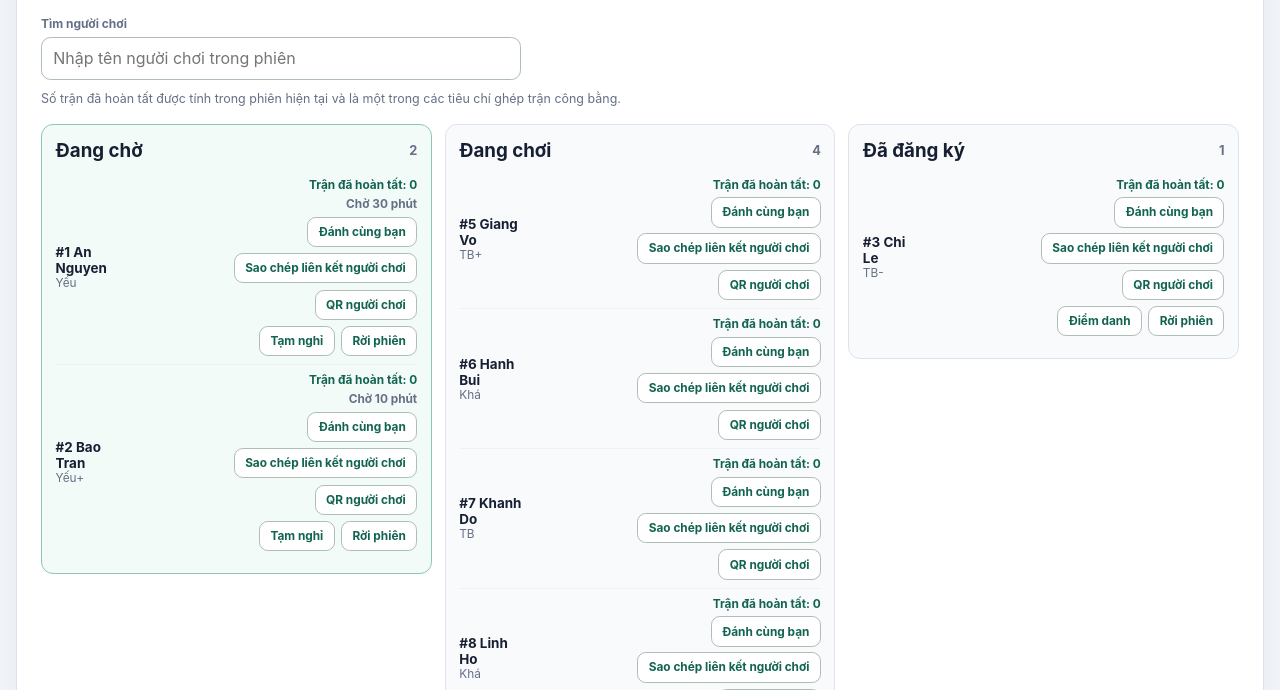
Test: Participant live actions › does not retry an unknown-outcome POST and reconciles Participants
The image size is (1280, 690).
(page scrolled)
Click the button "Rời phiên" below "Chờ 30 phút" at (379, 341), box top-left (341, 326), bottom-right (417, 356)
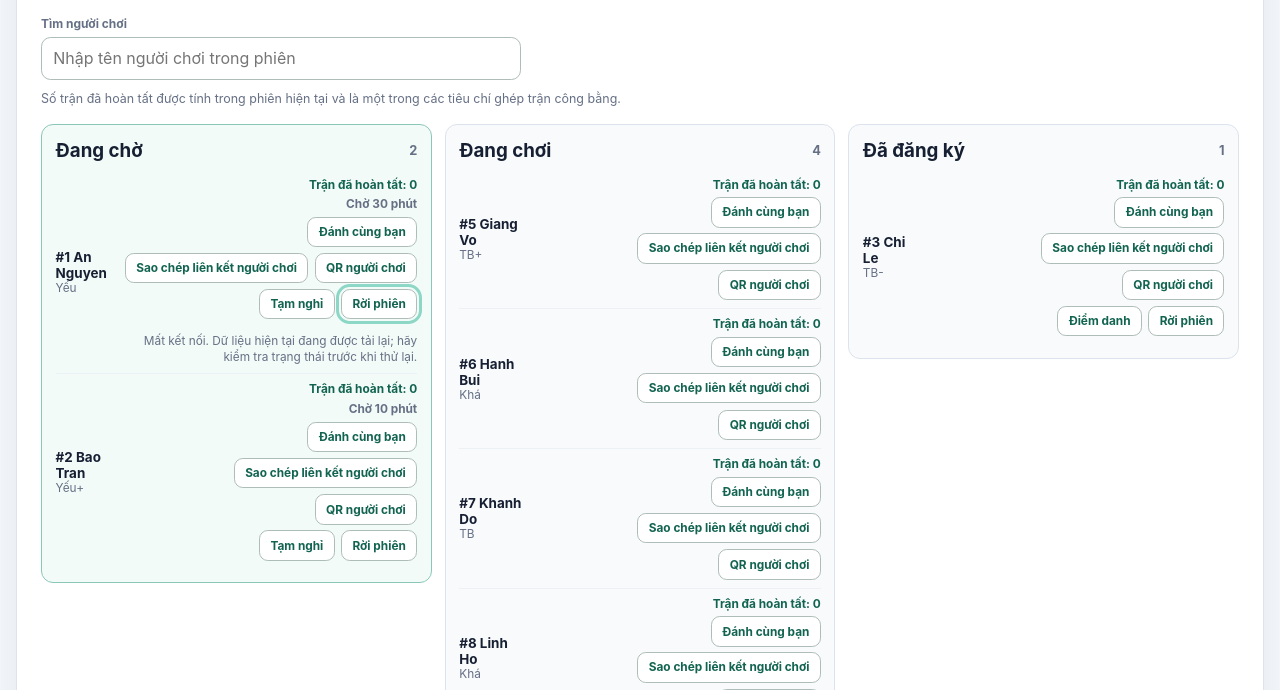
Check: the message shows "Mất kết nối. Dữ liệu hiện tại đang được tải lại; hãy kiểm tra trạng thái trước khi thử lại.", box top-left (144, 334), bottom-right (417, 364)
